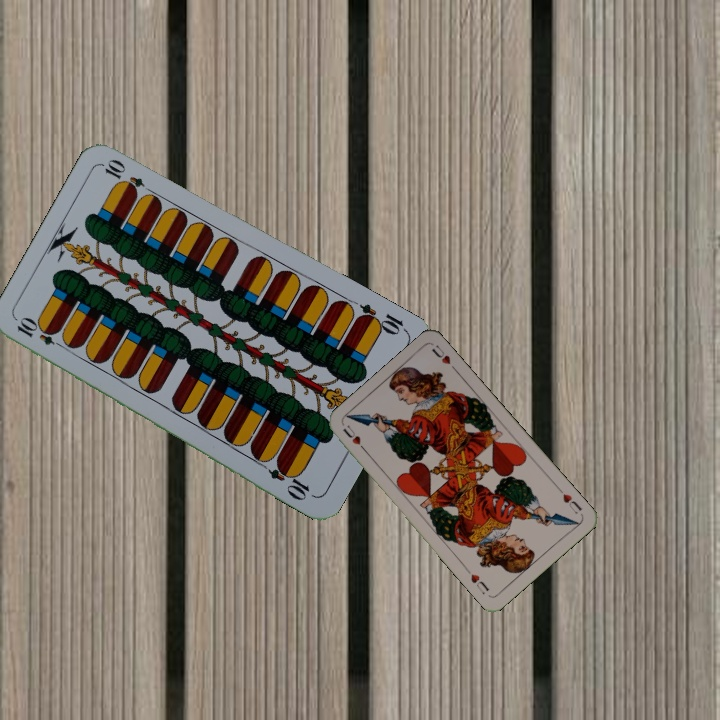E10: (352, 300, 410, 338), (13, 315, 69, 352)
HU: (339, 421, 370, 455), (554, 484, 585, 517)
